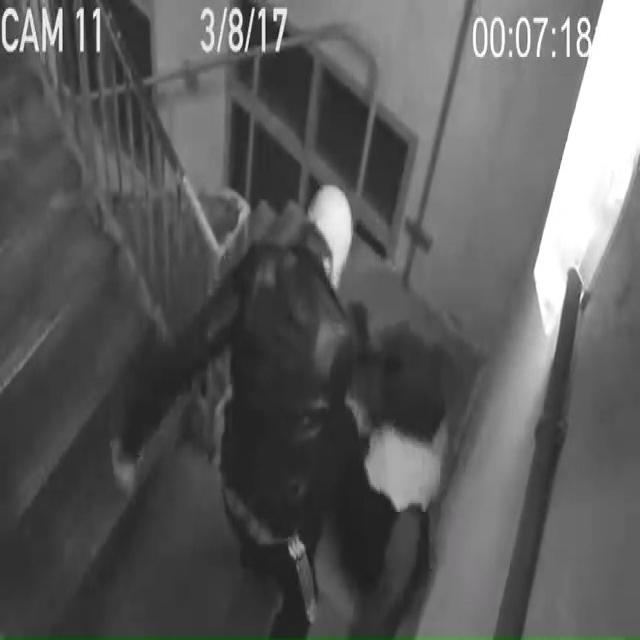fight: (222, 182, 449, 640)
